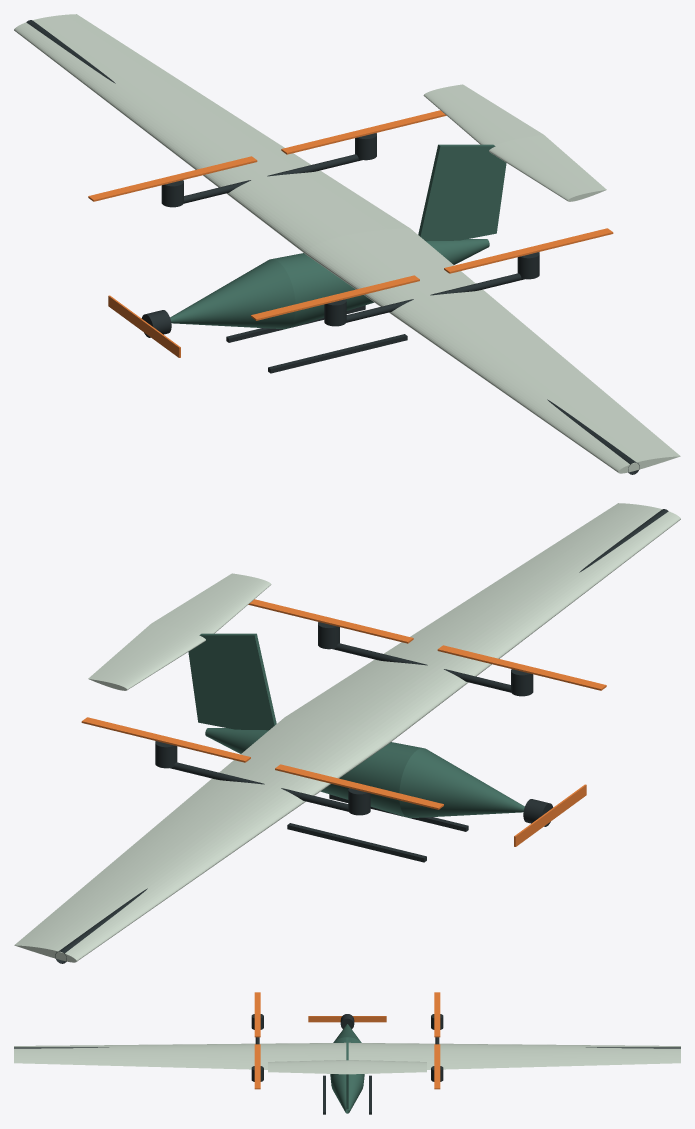
3 renders of one model, top to bottom at view 1: azimuth 30°, elevation 25°; view 2: azimuth 150°, elevation 25°; view 3: azimuth 270°, elevation 25°, orthographic. The views are drawn at different scales.
Parts seen in each view (by area): view 1: wing-1, wing1, fuselage, fin, tail-1, tail1, prop_-1_700.0, prop_1_220.0, prop_-1_220.0, prop_1_700.0, boom-1, boom1 (+3 smaller); view 2: wing1, wing-1, fuselage, fin, tail1, tail-1, prop_1_700.0, prop_-1_220.0, prop_1_220.0, prop_-1_700.0, boom1, boom-1 (+3 smaller); view 3: wing-1, wing1, fuselage, tail-1, tail1, cruise_prop, prop_-1_220.0, prop_-1_700.0, prop_1_220.0, prop_1_700.0, wing_spar.
Part boxes in pixels (box(x1,y1,x2,y2)): wing-1: box(305, 228, 680, 473); wing1: box(14, 14, 409, 254); fuselage: box(170, 239, 489, 329); fin: box(418, 144, 506, 241); tail-1: box(489, 134, 606, 201); tail1: box(423, 84, 543, 145); prop_-1_700.0: box(444, 228, 613, 273); prop_1_220.0: box(88, 156, 257, 201); prop_-1_220.0: box(251, 275, 419, 320); prop_1_700.0: box(281, 110, 446, 154); boom-1: box(346, 273, 525, 322); boom1: box(184, 154, 362, 203); wing1: box(14, 717, 389, 962); wing-1: box(285, 503, 680, 743); fuselage: box(205, 728, 524, 818); fin: box(188, 633, 276, 730); tail1: box(88, 623, 205, 690); tail-1: box(151, 573, 271, 634); prop_1_700.0: box(81, 717, 250, 762); prop_-1_220.0: box(437, 645, 606, 690); prop_1_220.0: box(275, 764, 443, 809); prop_-1_700.0: box(248, 599, 413, 643); boom1: box(169, 762, 348, 811); boom-1: box(332, 643, 510, 692); wing-1: box(14, 1042, 346, 1069); wing1: box(348, 1042, 680, 1069); fuselage: box(330, 1024, 364, 1113); tail-1: box(268, 1060, 347, 1074); tail1: box(347, 1060, 426, 1074); cruise_prop: box(308, 1016, 386, 1022); prop_-1_220.0: box(254, 992, 260, 1037); prop_-1_700.0: box(254, 1044, 260, 1089); prop_1_220.0: box(434, 992, 440, 1037); prop_1_700.0: box(434, 1044, 440, 1089); wing_spar: box(14, 1047, 680, 1048).
Bounding box in the file's own units: 994 × 393 × 2600.
